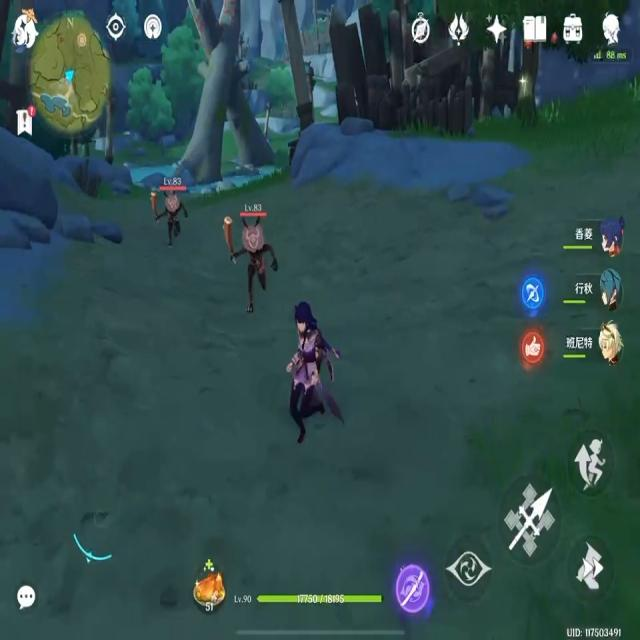genshin-hilichurls: (238, 222, 277, 314), (166, 194, 183, 239)
